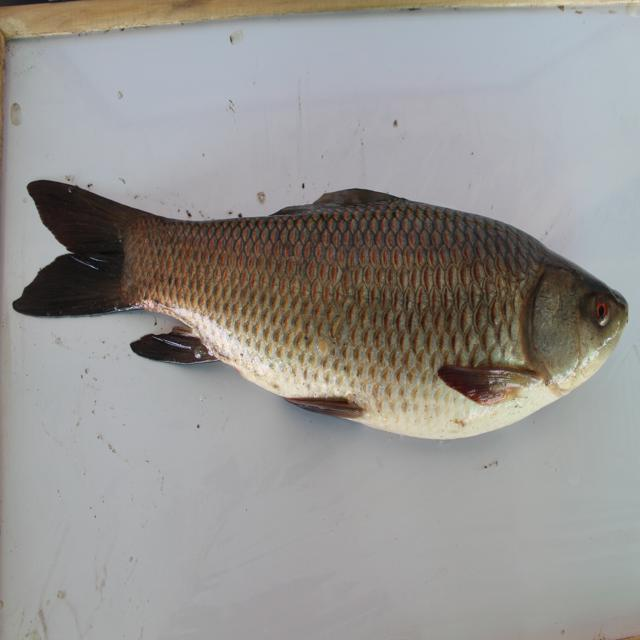Grass Carp: (9, 173, 637, 445)
